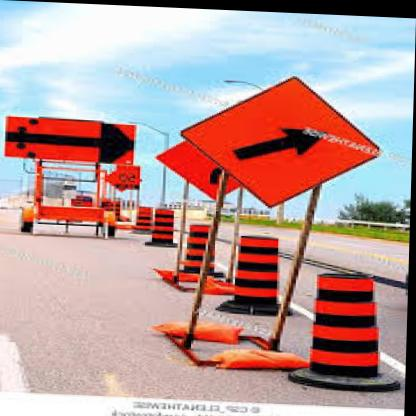obstacle: (302, 265, 387, 379), (225, 229, 296, 302)
